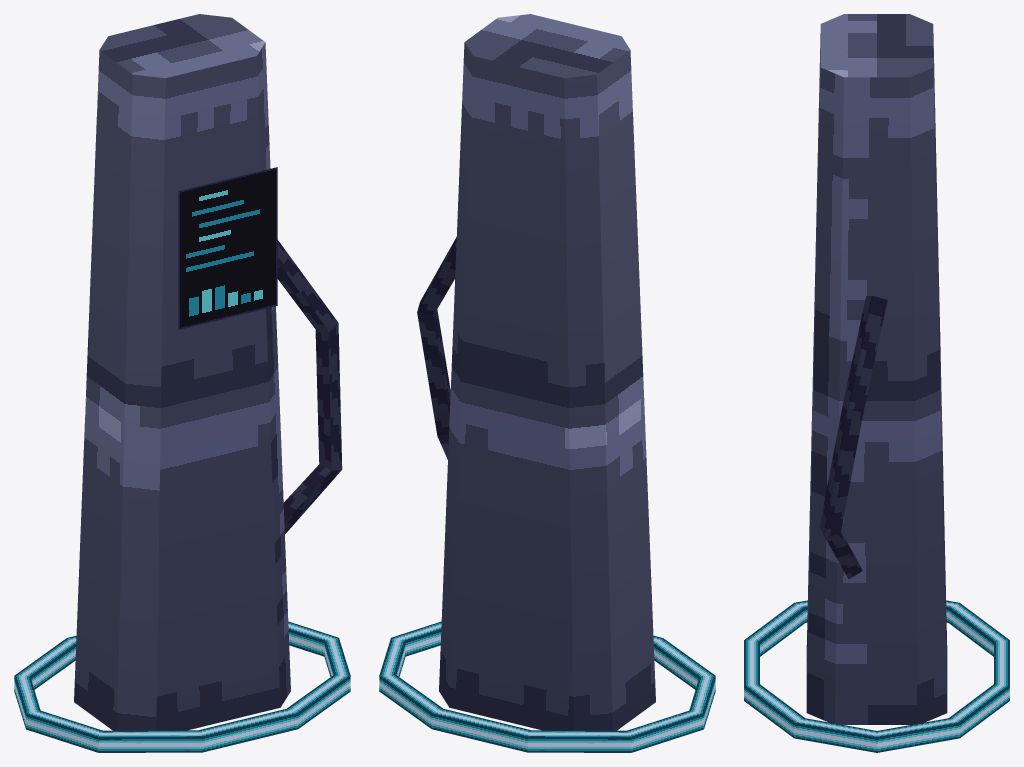
File: cytech.charger.glb
The picture shows the model from 3 angles, left to right: view 1: azimuth 30°, elevation 25°; view 2: azimuth 150°, elevation 25°; view 3: azimuth 270°, elevation 25°; orthographic projection. The views are drawn at different scales.
Parts seen in each view (by area): view 1: kit_post, kit_card_screen, kit_ring; view 2: kit_post, kit_ring; view 3: kit_post, kit_ring.
Boxes of the visible parts, x1=… form: kit_post: x1=74, y1=14, x2=342, y2=730; kit_card_screen: x1=178, y1=167, x2=277, y2=329; kit_ring: x1=14, y1=621, x2=350, y2=752; kit_post: x1=417, y1=14, x2=655, y2=730; kit_ring: x1=379, y1=621, x2=715, y2=752; kit_post: x1=806, y1=14, x2=947, y2=724; kit_ring: x1=744, y1=600, x2=1009, y2=752.
Bounding box in the file's own units: 0.7554 × 1.5 × 0.5669.
Materials: 5 (5 with a texture image).
